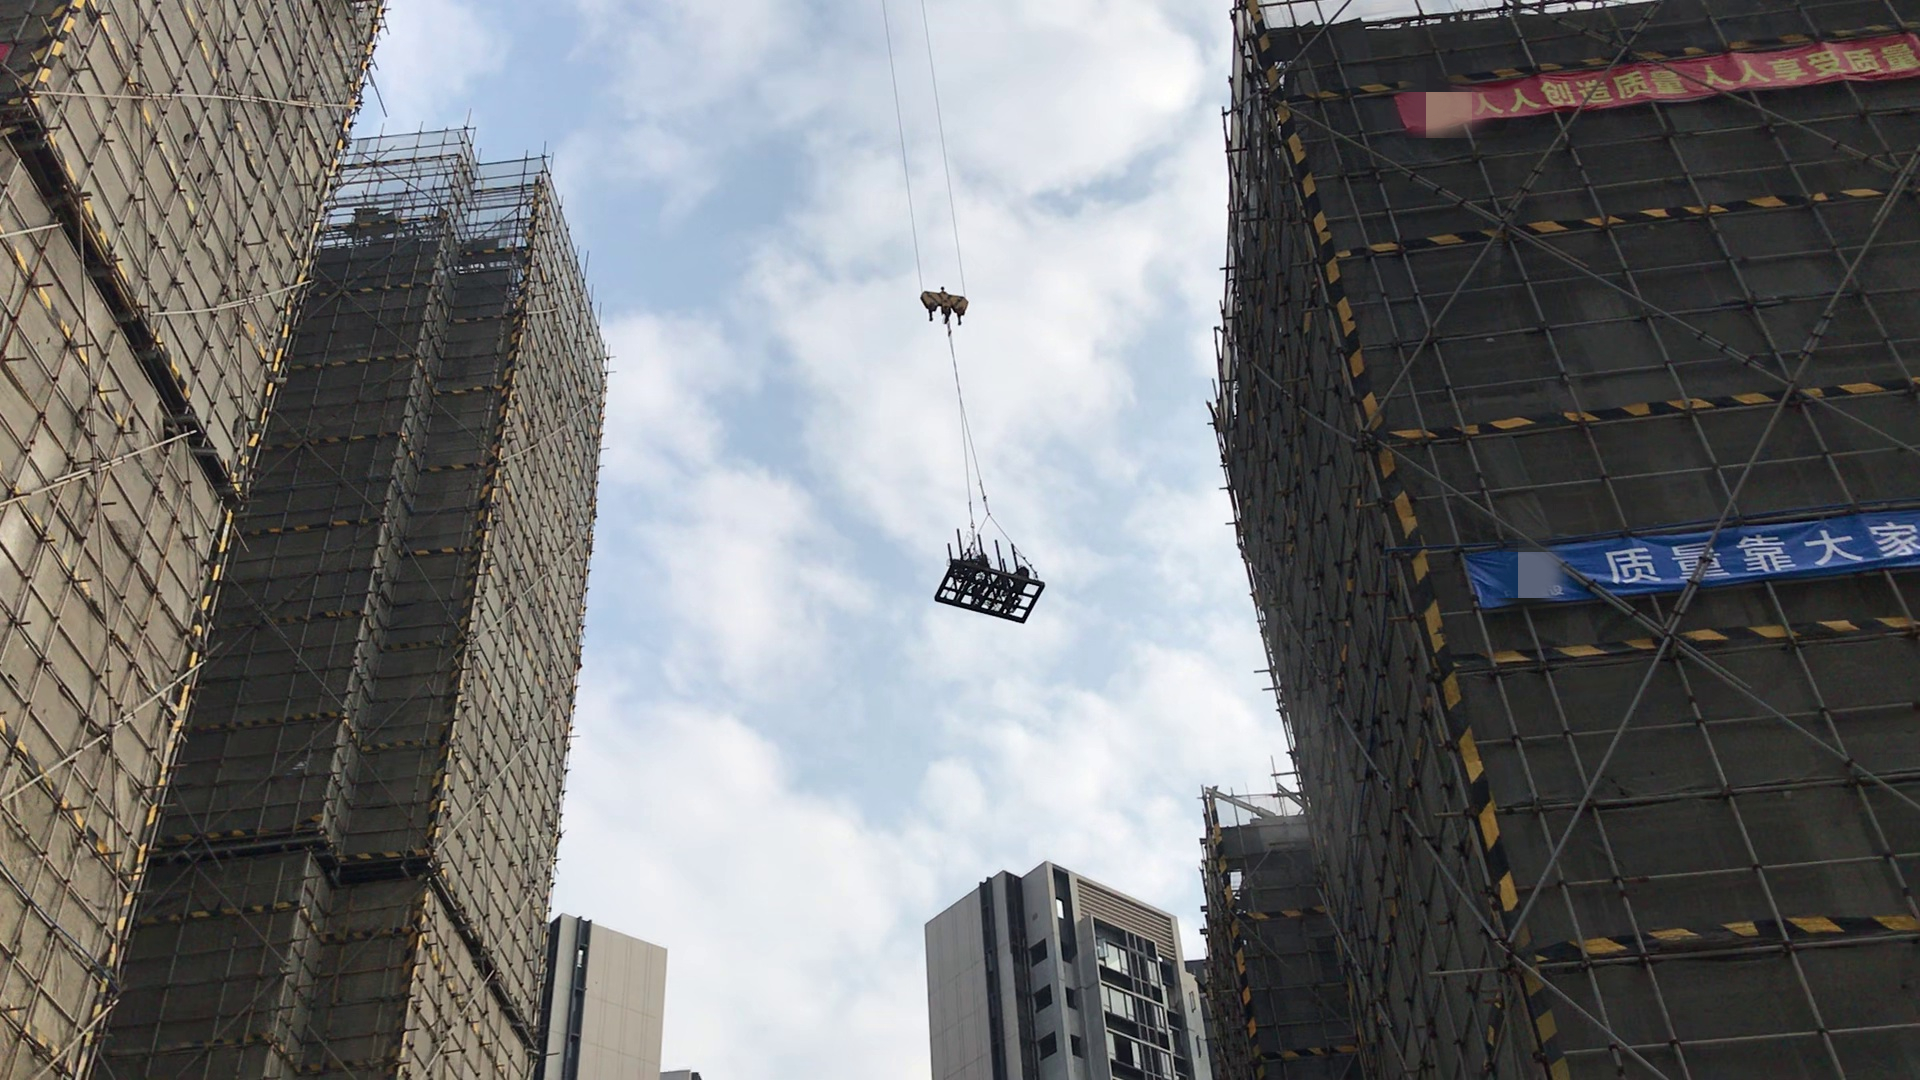hook: (920, 278, 982, 328)
slogan: (1408, 20, 1920, 137), (1481, 516, 1920, 624)
